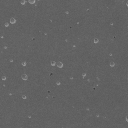corrosion: (20, 73, 29, 81), (56, 61, 64, 69), (9, 17, 17, 24), (50, 61, 57, 67), (109, 62, 116, 68), (19, 1, 27, 6), (28, 1, 36, 6), (21, 61, 27, 67), (93, 38, 99, 44), (4, 22, 10, 28), (81, 73, 87, 78), (9, 58, 14, 63), (65, 10, 69, 16), (1, 76, 7, 80), (21, 95, 27, 99), (56, 82, 62, 86), (109, 22, 115, 26), (75, 21, 80, 25), (3, 45, 8, 49), (27, 115, 32, 119), (72, 44, 76, 48)
